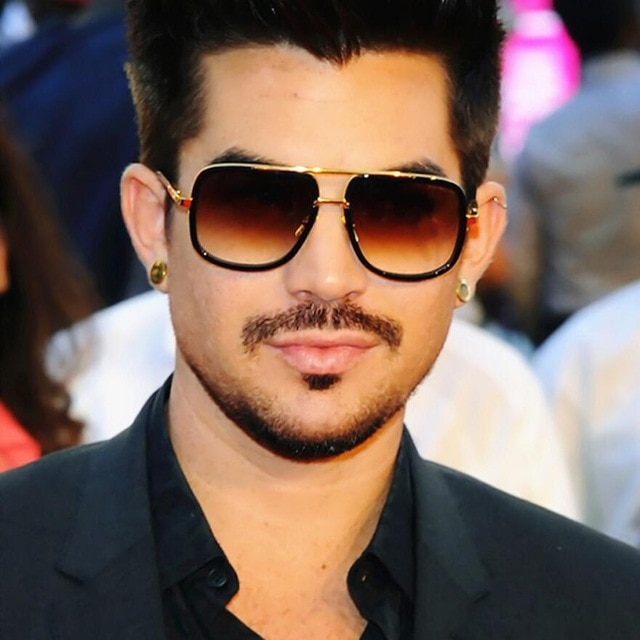sunglasses: (126, 148, 506, 290)
